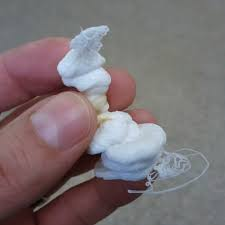fail: (48, 51, 172, 186), (129, 144, 215, 198), (63, 24, 120, 55)
